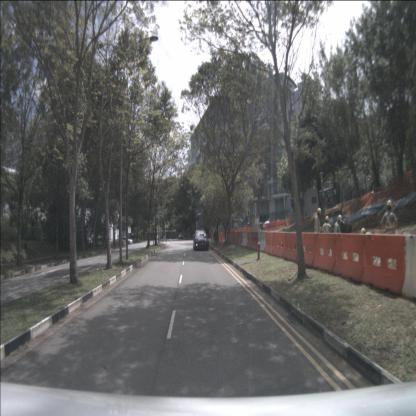barrier: (361, 233, 406, 294), (334, 233, 364, 282), (312, 232, 336, 273), (401, 234, 416, 299), (297, 232, 315, 268), (282, 232, 298, 262), (272, 232, 286, 258), (264, 232, 274, 255), (257, 231, 266, 252), (250, 231, 259, 251), (265, 221, 276, 232), (241, 230, 248, 247), (246, 231, 252, 249), (275, 220, 285, 230), (237, 231, 243, 246), (233, 232, 238, 246), (230, 232, 234, 244)
